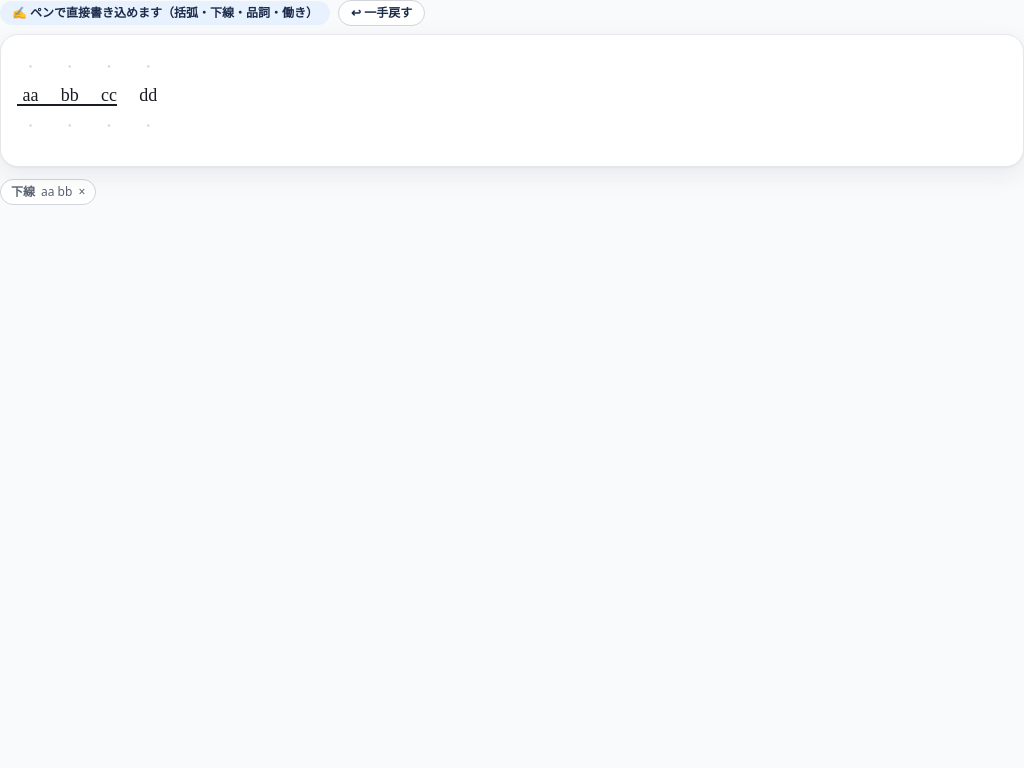
Test case: PenSyntaxAnnotator 下線のタッチ修正（2026-09-02） › 下線をタッチして削除できる
The width and height of the screenshot is (1024, 768).
Press the mouse on the drawing: (512, 100) [1,35,1023,166]
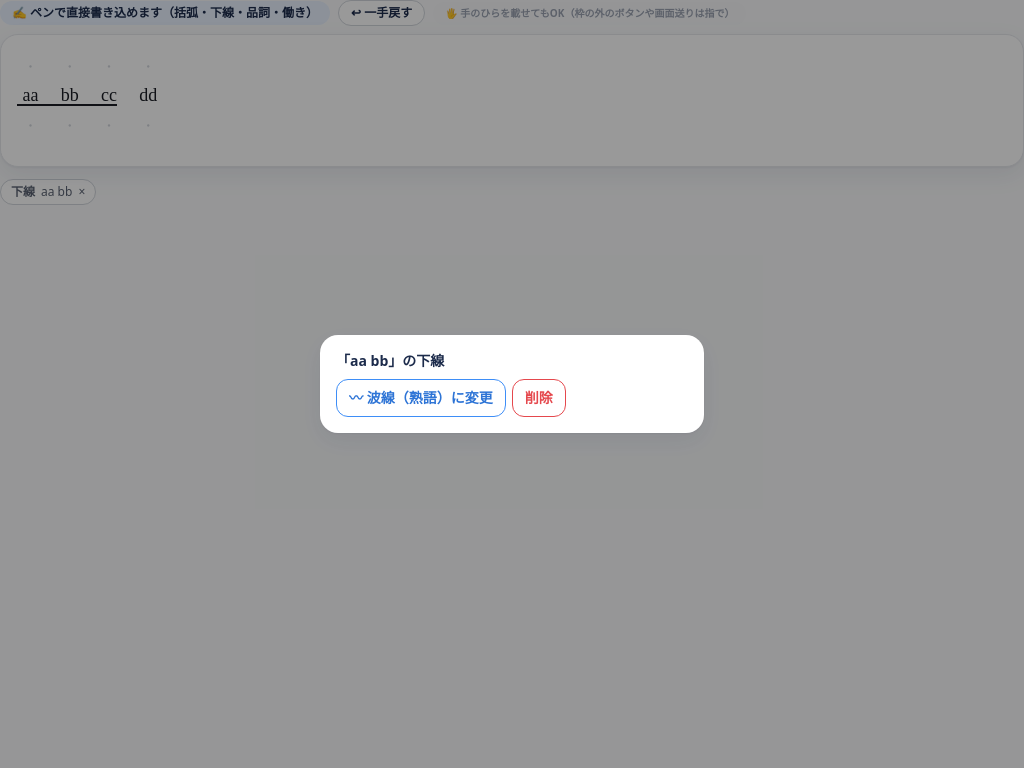
Click the button "削除": (539, 398) [512,379,566,417]
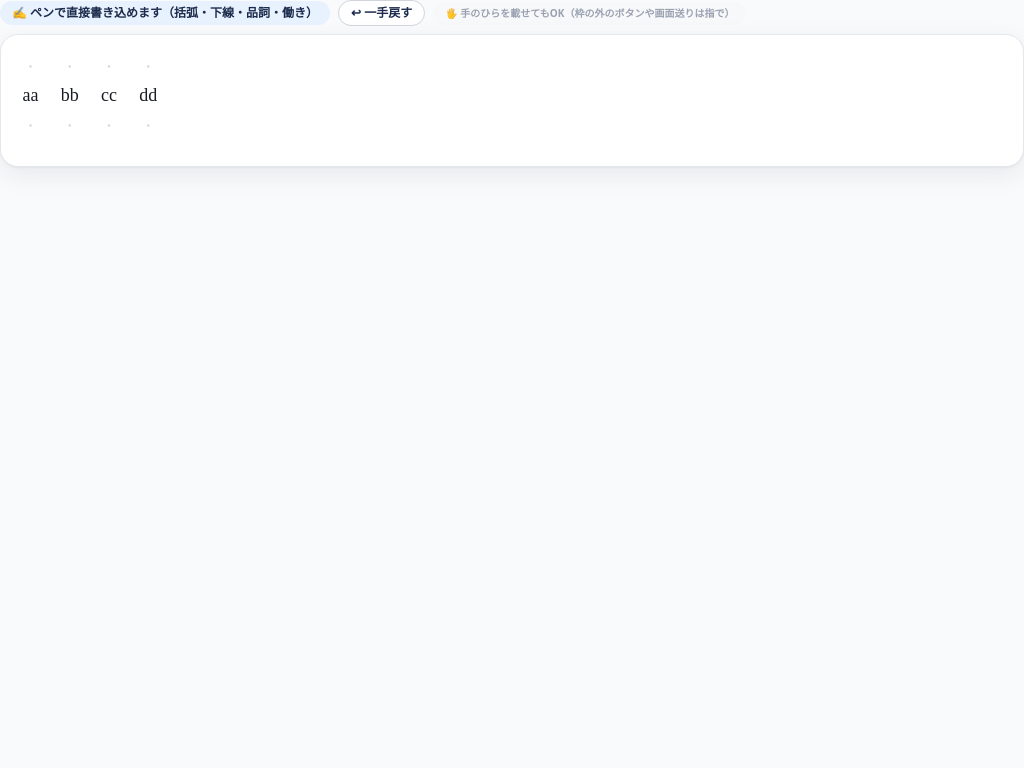
Check: the text "波線（熟語）" is gone
